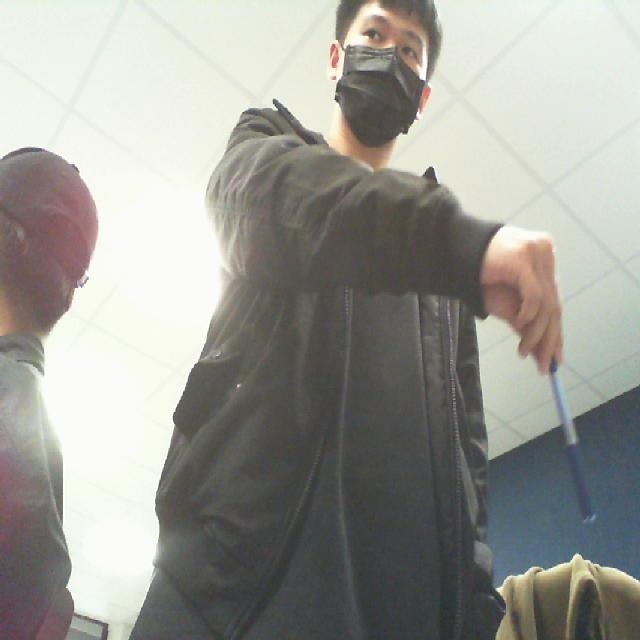Pen: (534, 330, 608, 544)
